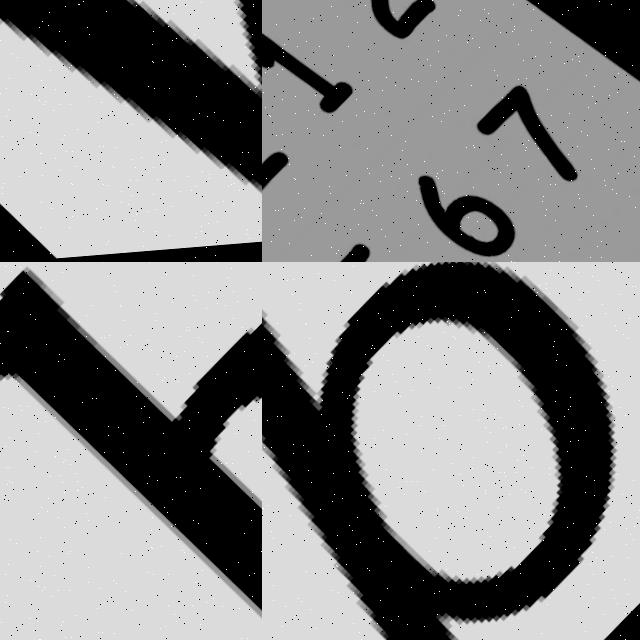1: (262, 0, 375, 151)
2: (282, 0, 471, 94)
5: (287, 197, 481, 262)
6: (363, 123, 554, 262)
7: (447, 48, 630, 229)
B: (262, 265, 625, 640), (0, 268, 262, 614)
V: (0, 0, 262, 262)
